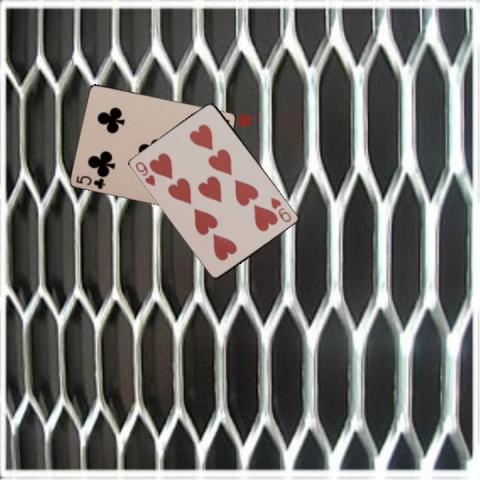5c: (73, 173, 107, 190)
9h: (268, 195, 293, 224), (133, 159, 157, 188)
